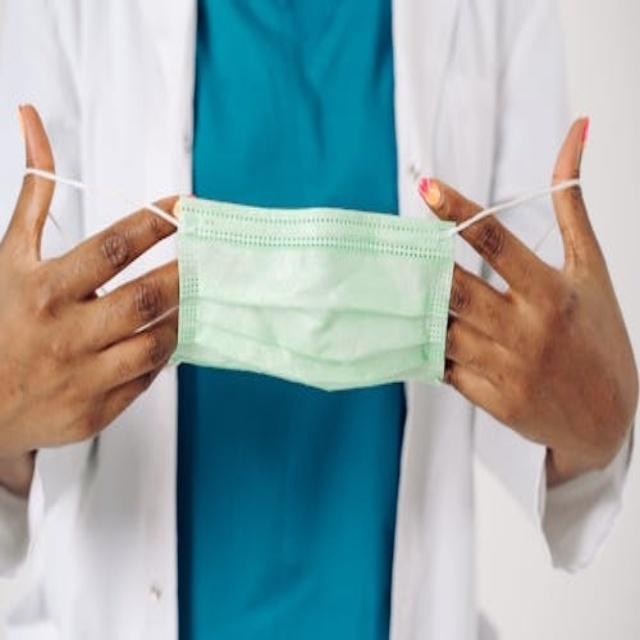Sin_guantes: (417, 111, 639, 475), (1, 98, 188, 468)
